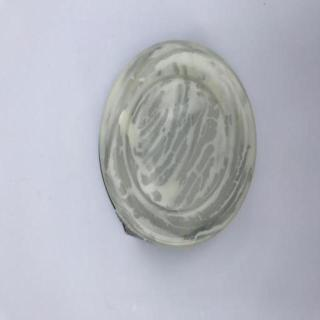Plastic-bottle: (98, 40, 258, 248)
